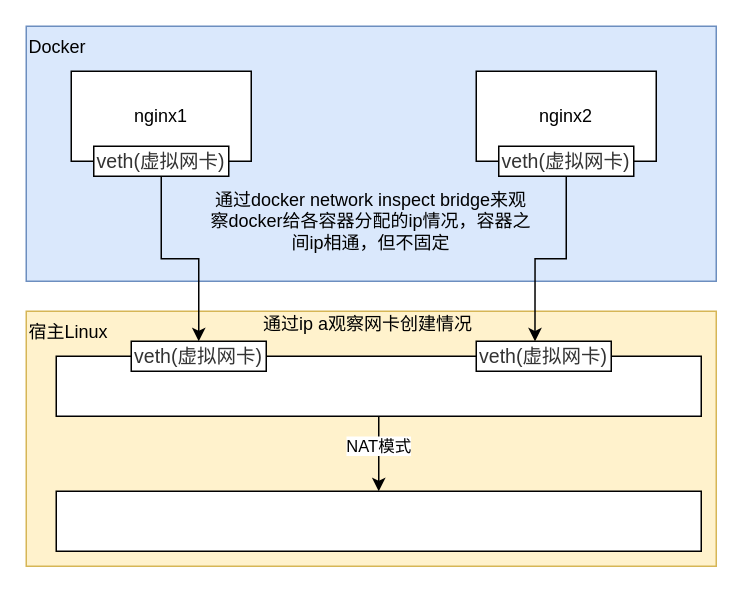
Some shapes in this 743 by 593 pixel diagram are drawn without their labels. Each missing label, with the box of its shape:
docker0: (55, 355, 701, 416)
eth0(物理网卡): (55, 490, 701, 551)
